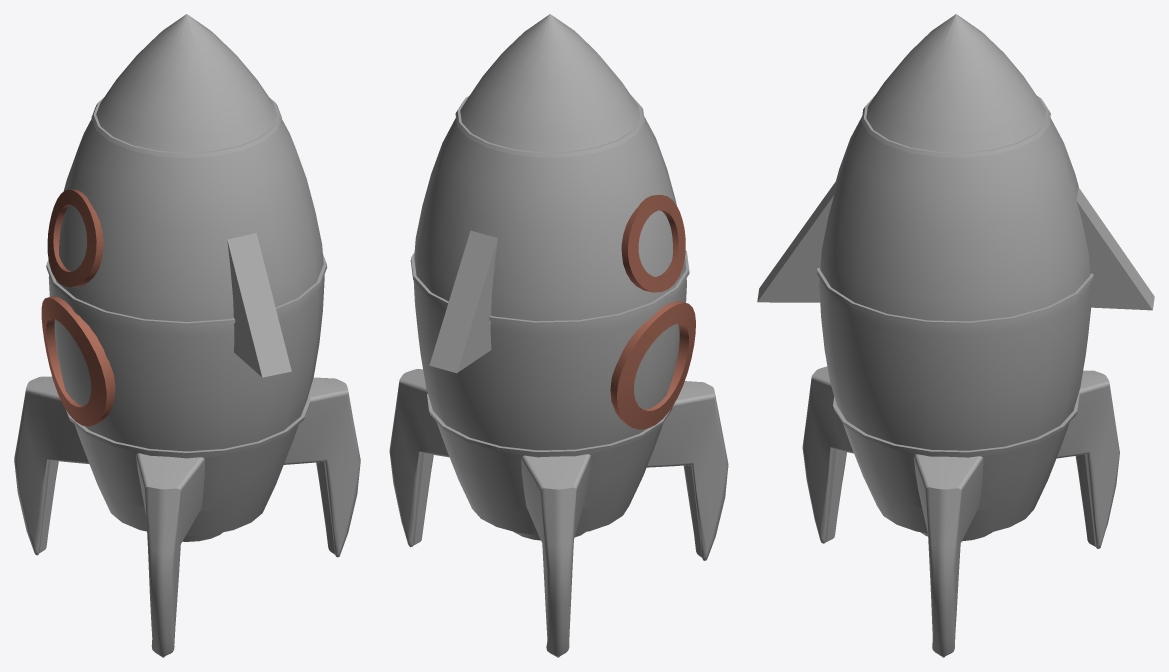
Rendered from Rocket.fbx.
The picture shows the model from 3 angles, left to right: view 1: azimuth 30°, elevation 25°; view 2: azimuth 150°, elevation 25°; view 3: azimuth 270°, elevation 25°; orthographic projection.
Visible parts, largest first — view 1: Rocket, Wing_right; view 2: Rocket, Wing_left; view 3: Rocket, Wing_left, Wing_right.
Part boxes in pixels (x1,y1,x2,y2): Rocket: [14, 14, 360, 657]; Wing_right: [227, 233, 291, 377]; Rocket: [389, 14, 728, 657]; Wing_left: [429, 230, 497, 373]; Rocket: [802, 14, 1119, 657]; Wing_left: [1076, 187, 1154, 310]; Wing_right: [757, 181, 835, 302].
Size of the model in its own units: 2.18 by 4.12 by 2.59.
